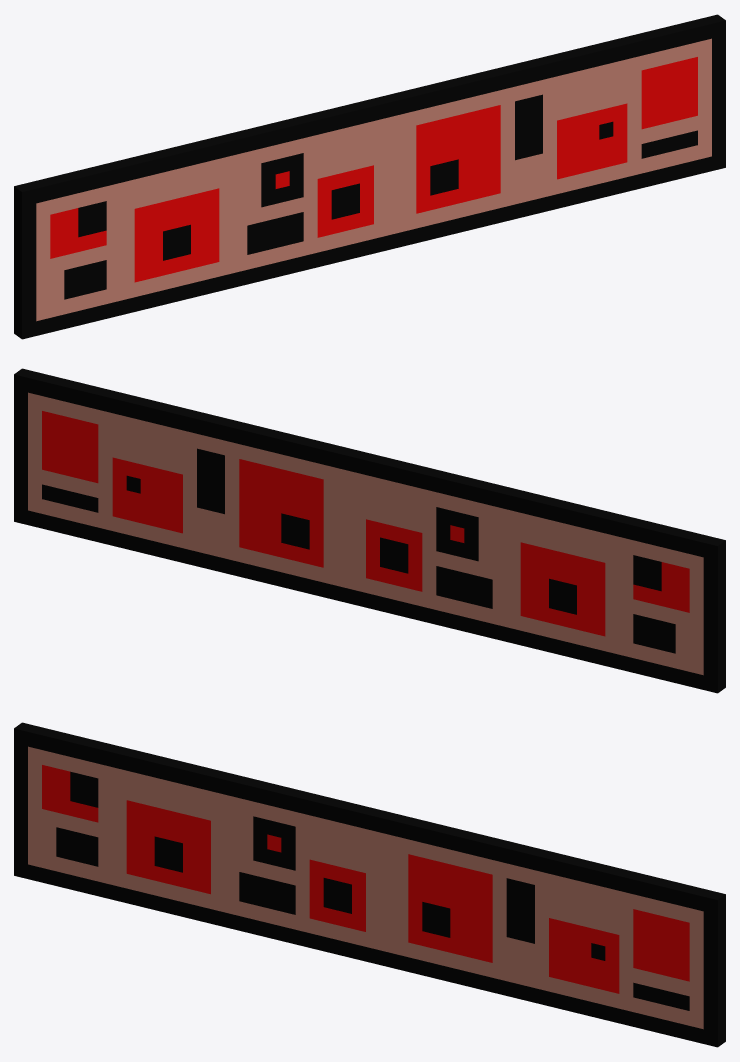
Rendered from restaurant-4-painting.obj.
3 renders of one model, top to bottom at view 1: azimuth 30°, elevation 25°; view 2: azimuth 150°, elevation 25°; view 3: azimuth 330°, elevation 25°, orthographic.
Parts seen in each view (by area): view 1: painting; view 2: painting; view 3: painting.
Boxes of the visible parts, x1=… form: painting: x1=14, y1=14, x2=725, y2=339; painting: x1=14, y1=368, x2=725, y2=693; painting: x1=14, y1=722, x2=725, y2=1047.
Bounding box in the file's own units: 5 × 1 × 0.1.
Materials: 1 (1 with a texture image).
